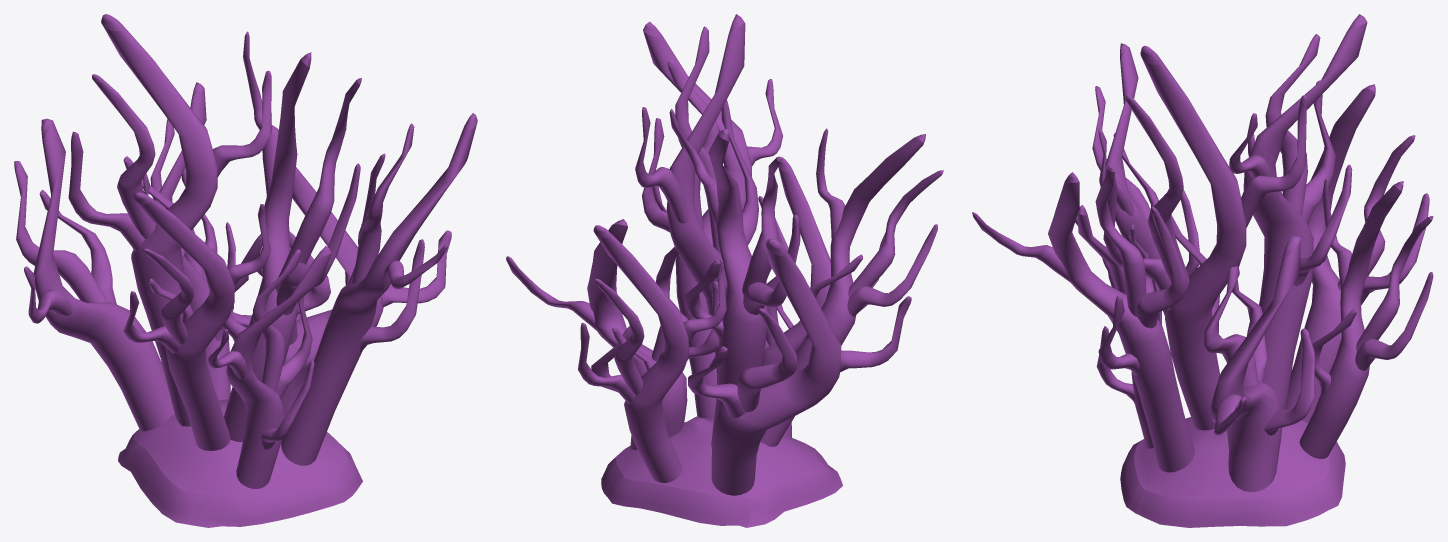
The model's file is SM_Coral_Placeholder.fbx.
3 renders of one model, left to right at view 1: azimuth 30°, elevation 25°; view 2: azimuth 150°, elevation 25°; view 3: azimuth 270°, elevation 25°, orthographic. The views are drawn at different scales.
Parts seen in each view (by area): view 1: SM_Coral_Placeholder; view 2: SM_Coral_Placeholder; view 3: SM_Coral_Placeholder.
Part boxes in pixels (<box>): SM_Coral_Placeholder: <box>14,14,477,527</box>; SM_Coral_Placeholder: <box>506,14,943,527</box>; SM_Coral_Placeholder: <box>972,14,1433,527</box>.
Size of the model in its own units: 390 by 396 by 367.
